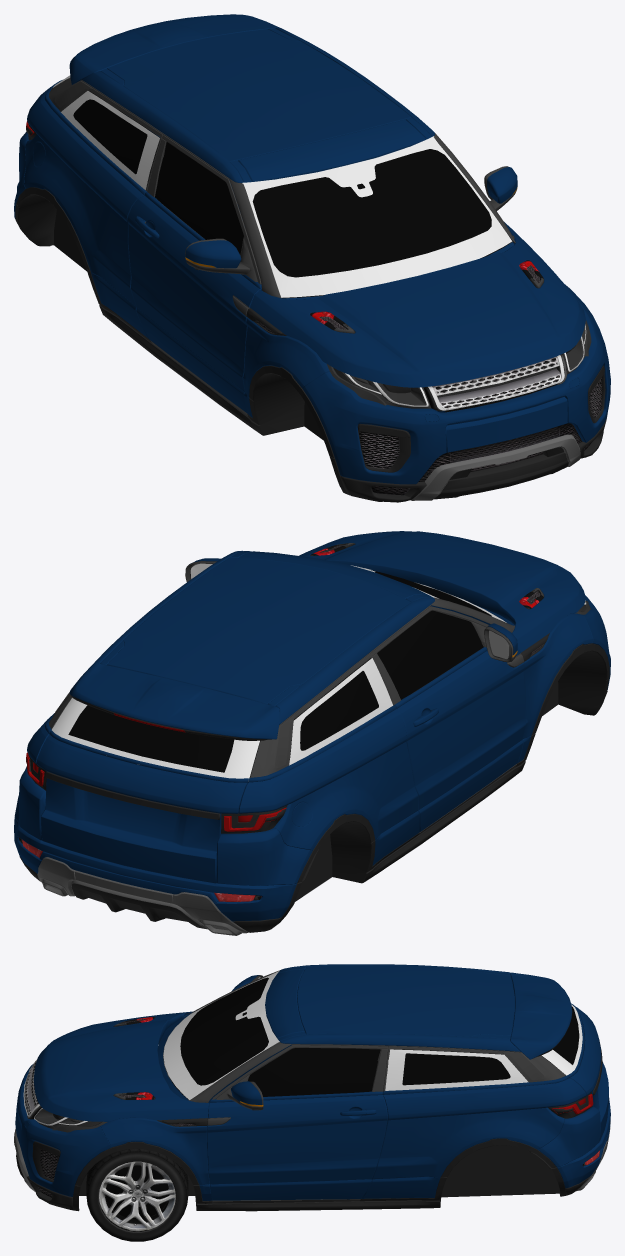
Rendered from range_rover.fbx.
3 views of the same model, one above another, from view 1: azimuth 30°, elevation 25°; view 2: azimuth 150°, elevation 25°; view 3: azimuth 270°, elevation 25° (orthographic). The views are drawn at different scales.
Parts seen in each view (by area): view 1: detach_hood_45_pivot_carpaint, glasses_glass_windows, chassis_pivot_glass_border, chassis_pivot_carparts_dark.001, chassis_pivot_carpaint_002, chassis_pivot_carparts_dark.002, chassis_pivot_details_018, chassis_pivot_carparts_dark.003, detach_door_L_45_pivot_carpaint.002, chassis_pivot_details_017, chassis_pivot_carparts_dark.010, detach_door_L_45_pivot_carpaint.005 (+3 smaller); view 2: detach_hood_45_pivot_carpaint, glasses_glass_windows, chassis_pivot_carparts_dark.001, chassis_pivot_carpaint_002, chassis_pivot_glass_border, chassis_pivot_carparts_dark.010, chassis_pivot_carparts_dark.002, detach_door_L_45_pivot_carpaint.002, chassis_pivot_details_016, chassis_pivot_carparts_dark.004, chassis_pivot_details_013, detach_hood_45_pivot_details; view 3: detach_hood_45_pivot_carpaint, glasses_glass_windows, chassis_pivot_carparts_dark.001, chassis_pivot_glass_border, chassis_pivot_carpaint_002, FL, Universal_Wheel1, chassis_pivot_carparts_dark.002, detach_door_L_45_pivot_carpaint.002, chassis_pivot_details_017, detach_door_L_45_pivot_carpaint.005, chassis_pivot_details_018 (+4 smaller).
Boxes of the visible parts, x1,y1,x2,y2 form: detach_hood_45_pivot_carpaint: (14,14,610,484); glasses_glass_windows: (65,79,511,298); chassis_pivot_glass_border: (53,75,512,297); chassis_pivot_carparts_dark.001: (15,187,607,502); chassis_pivot_carpaint_002: (19,195,323,440); chassis_pivot_carparts_dark.002: (49,77,515,298); chassis_pivot_details_018: (423,354,566,411); chassis_pivot_carparts_dark.003: (434,447,568,499); detach_door_L_45_pivot_carpaint.002: (145,135,516,416); chassis_pivot_details_017: (327,320,591,408); chassis_pivot_carparts_dark.010: (411,434,580,500); detach_door_L_45_pivot_carpaint.005: (185,167,517,268); detach_hood_45_pivot_carpaint: (14,531,610,921); glasses_glass_windows: (68,570,491,777); chassis_pivot_carparts_dark.001: (19,643,609,932); chassis_pivot_carpaint_002: (295,651,605,901); chassis_pivot_glass_border: (52,565,506,778); chassis_pivot_carparts_dark.010: (37,857,248,933); chassis_pivot_carparts_dark.002: (48,597,514,777); detach_door_L_45_pivot_carpaint.002: (185,561,524,834); chassis_pivot_details_016: (26,752,287,833); chassis_pivot_carparts_dark.004: (46,771,220,819); chassis_pivot_details_013: (42,879,242,935); detach_hood_45_pivot_details: (310,543,544,609); detach_hood_45_pivot_carpaint: (15,964,610,1200); glasses_glass_windows: (163,977,579,1099); chassis_pivot_carparts_dark.001: (27,1040,590,1211); chassis_pivot_glass_border: (163,971,582,1099); chassis_pivot_carpaint_002: (79,1145,559,1210); FL: (99,1161,175,1231); Universal_Wheel1: (86,1149,188,1241); chassis_pivot_carparts_dark.002: (187,970,565,1102); detach_door_L_45_pivot_carpaint.002: (207,975,388,1203); chassis_pivot_details_017: (34,1108,107,1132); detach_door_L_45_pivot_carpaint.005: (231,975,261,1104); chassis_pivot_details_018: (23,1059,41,1119).
Size of the model in its own units: 212 by 156 by 436.
Materials: 16 (3 with a texture image).
